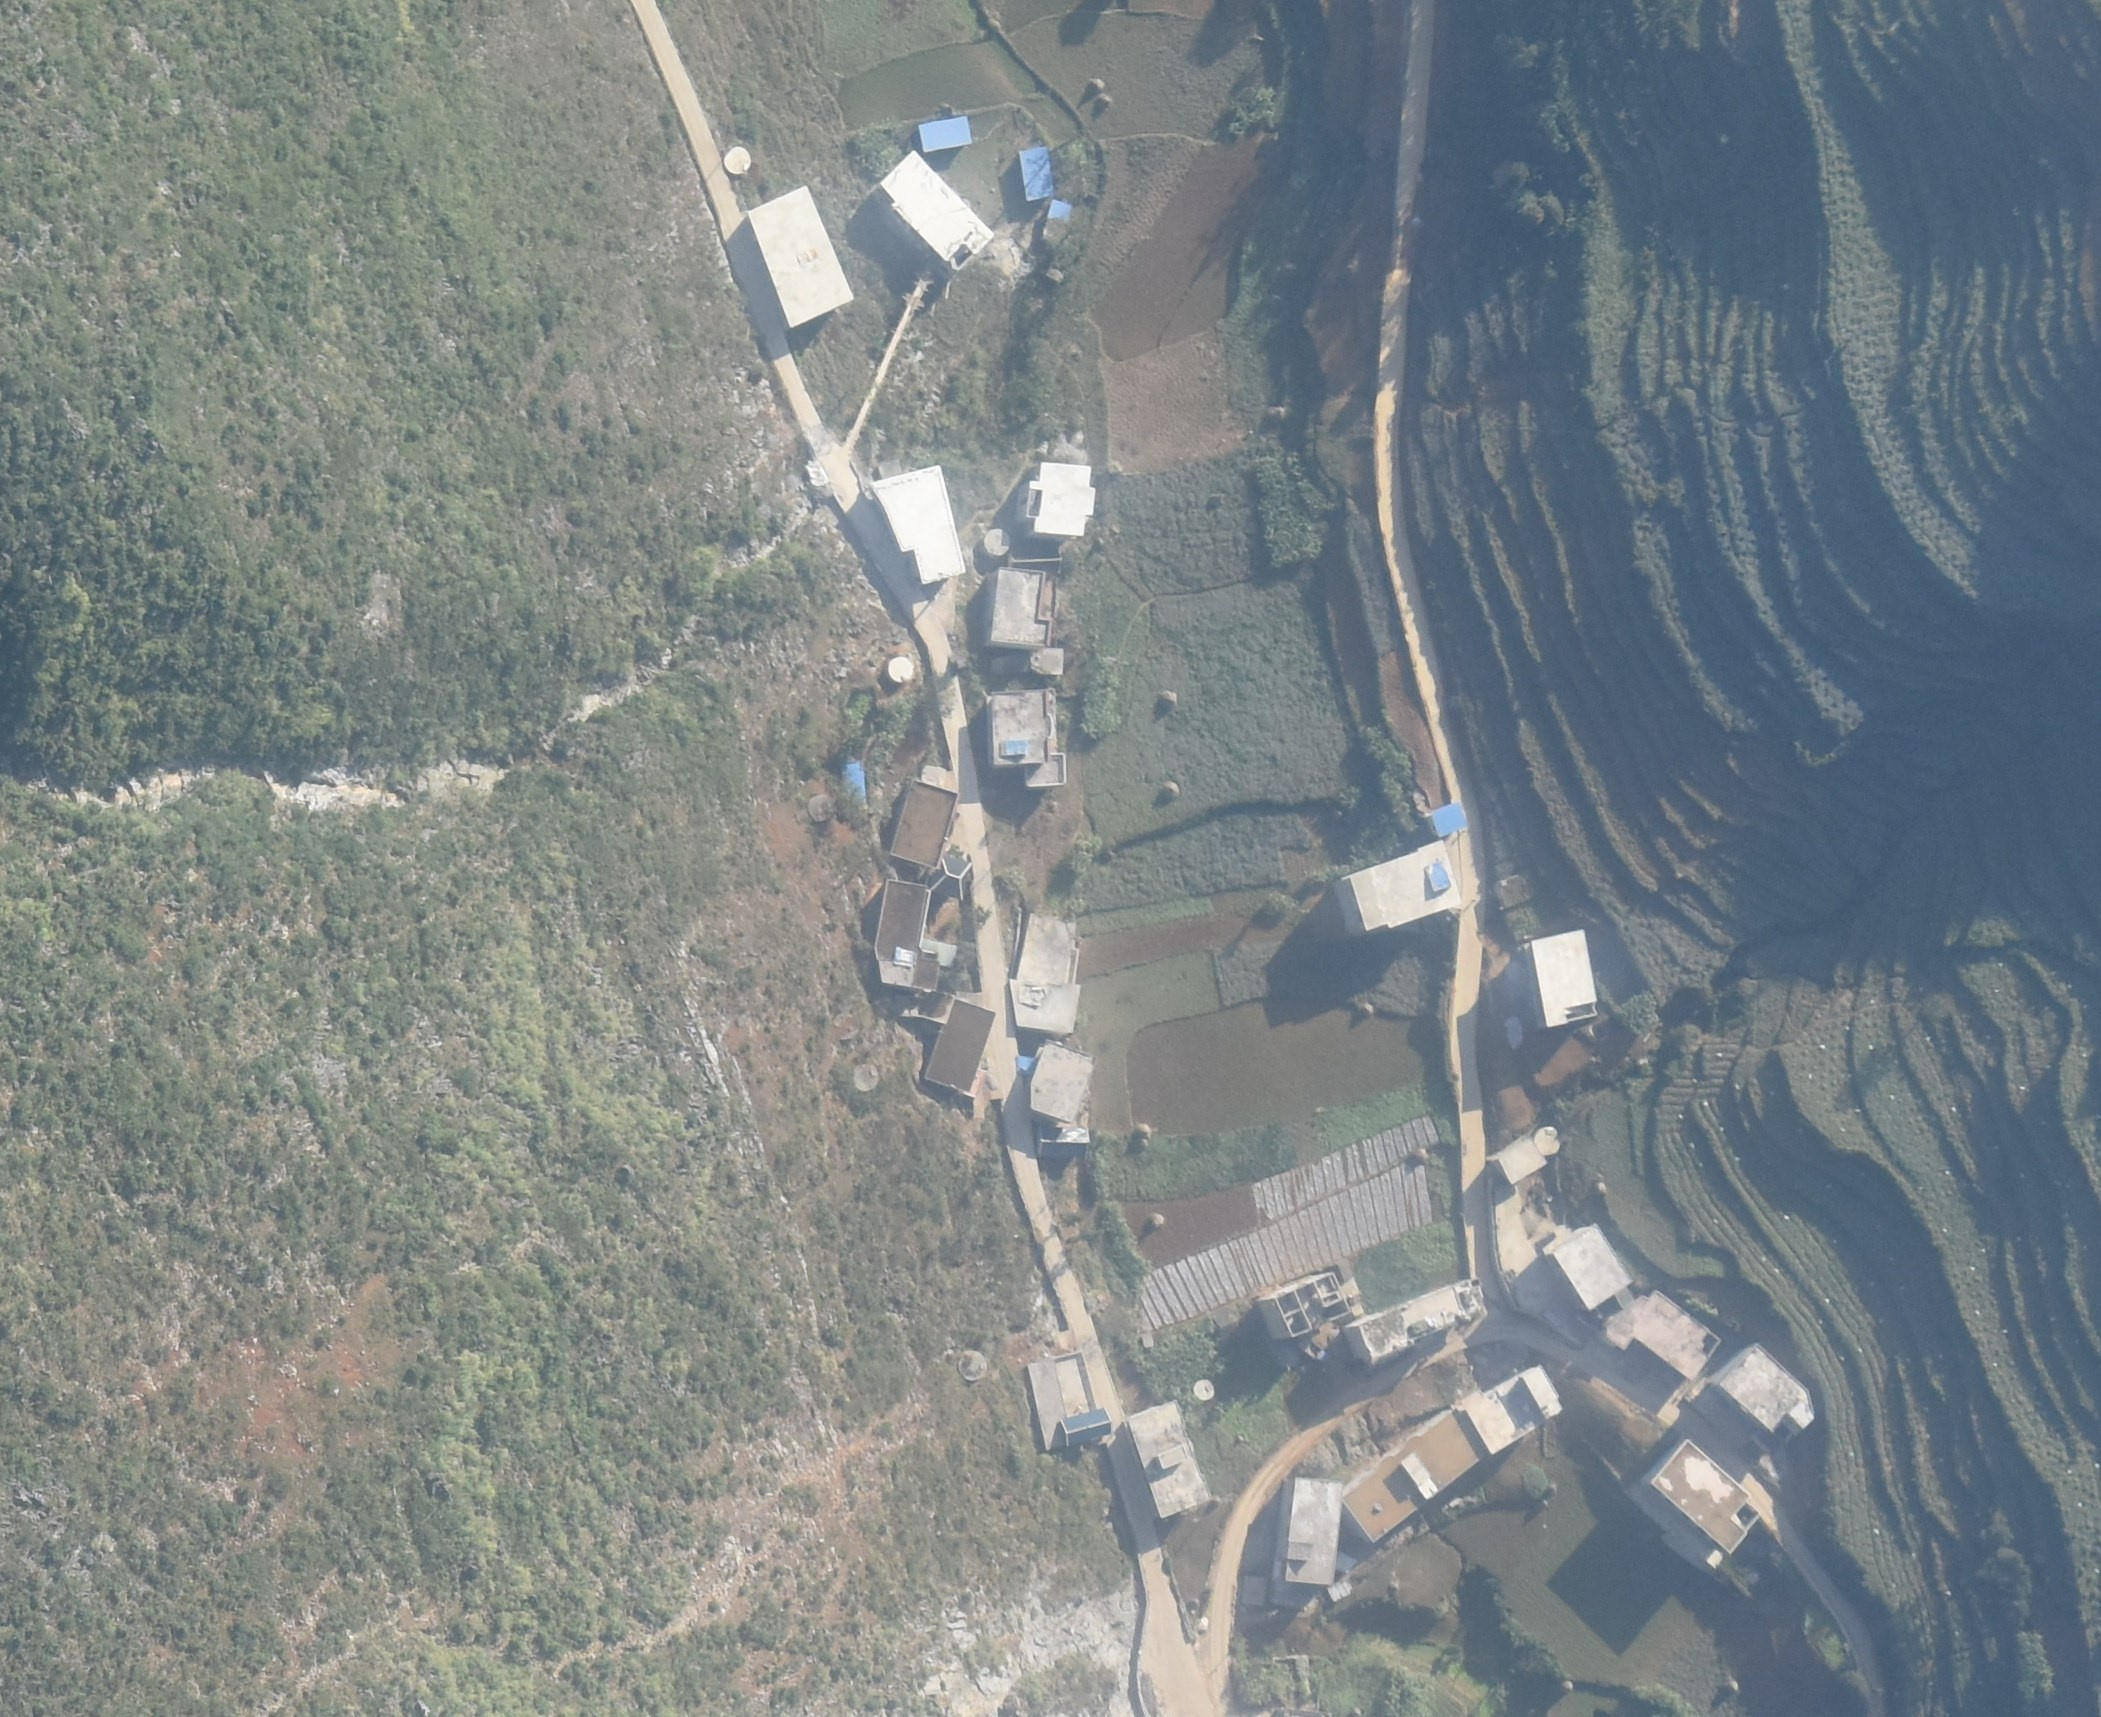building: (1345, 1366, 1565, 1549), (747, 187, 853, 332), (881, 148, 995, 272), (1647, 1440, 1761, 1556), (867, 466, 967, 585), (1358, 1277, 1487, 1365), (1349, 841, 1462, 934), (1126, 1398, 1208, 1520), (1614, 1289, 1721, 1380), (1719, 1342, 1815, 1433), (1009, 913, 1082, 1031), (989, 689, 1066, 787), (878, 879, 939, 993), (1530, 927, 1597, 1028), (1555, 1223, 1630, 1310), (925, 1002, 995, 1092), (893, 780, 962, 871), (1286, 1480, 1342, 1586), (1270, 1274, 1352, 1338), (1030, 461, 1096, 537), (1031, 1038, 1092, 1120), (991, 569, 1050, 646), (1497, 1138, 1548, 1185), (930, 853, 974, 902), (1059, 1408, 1112, 1445), (1037, 1127, 1091, 1160), (843, 763, 867, 808), (1031, 646, 1064, 675)
prefabricated-house: (916, 113, 972, 155), (1019, 147, 1052, 202), (1429, 801, 1468, 839), (1044, 199, 1071, 244)
well: (721, 145, 750, 174), (960, 1349, 986, 1380), (1534, 1127, 1562, 1155), (984, 529, 1012, 557), (806, 794, 832, 824), (853, 1064, 879, 1092), (886, 656, 913, 682), (1192, 1378, 1213, 1401)
